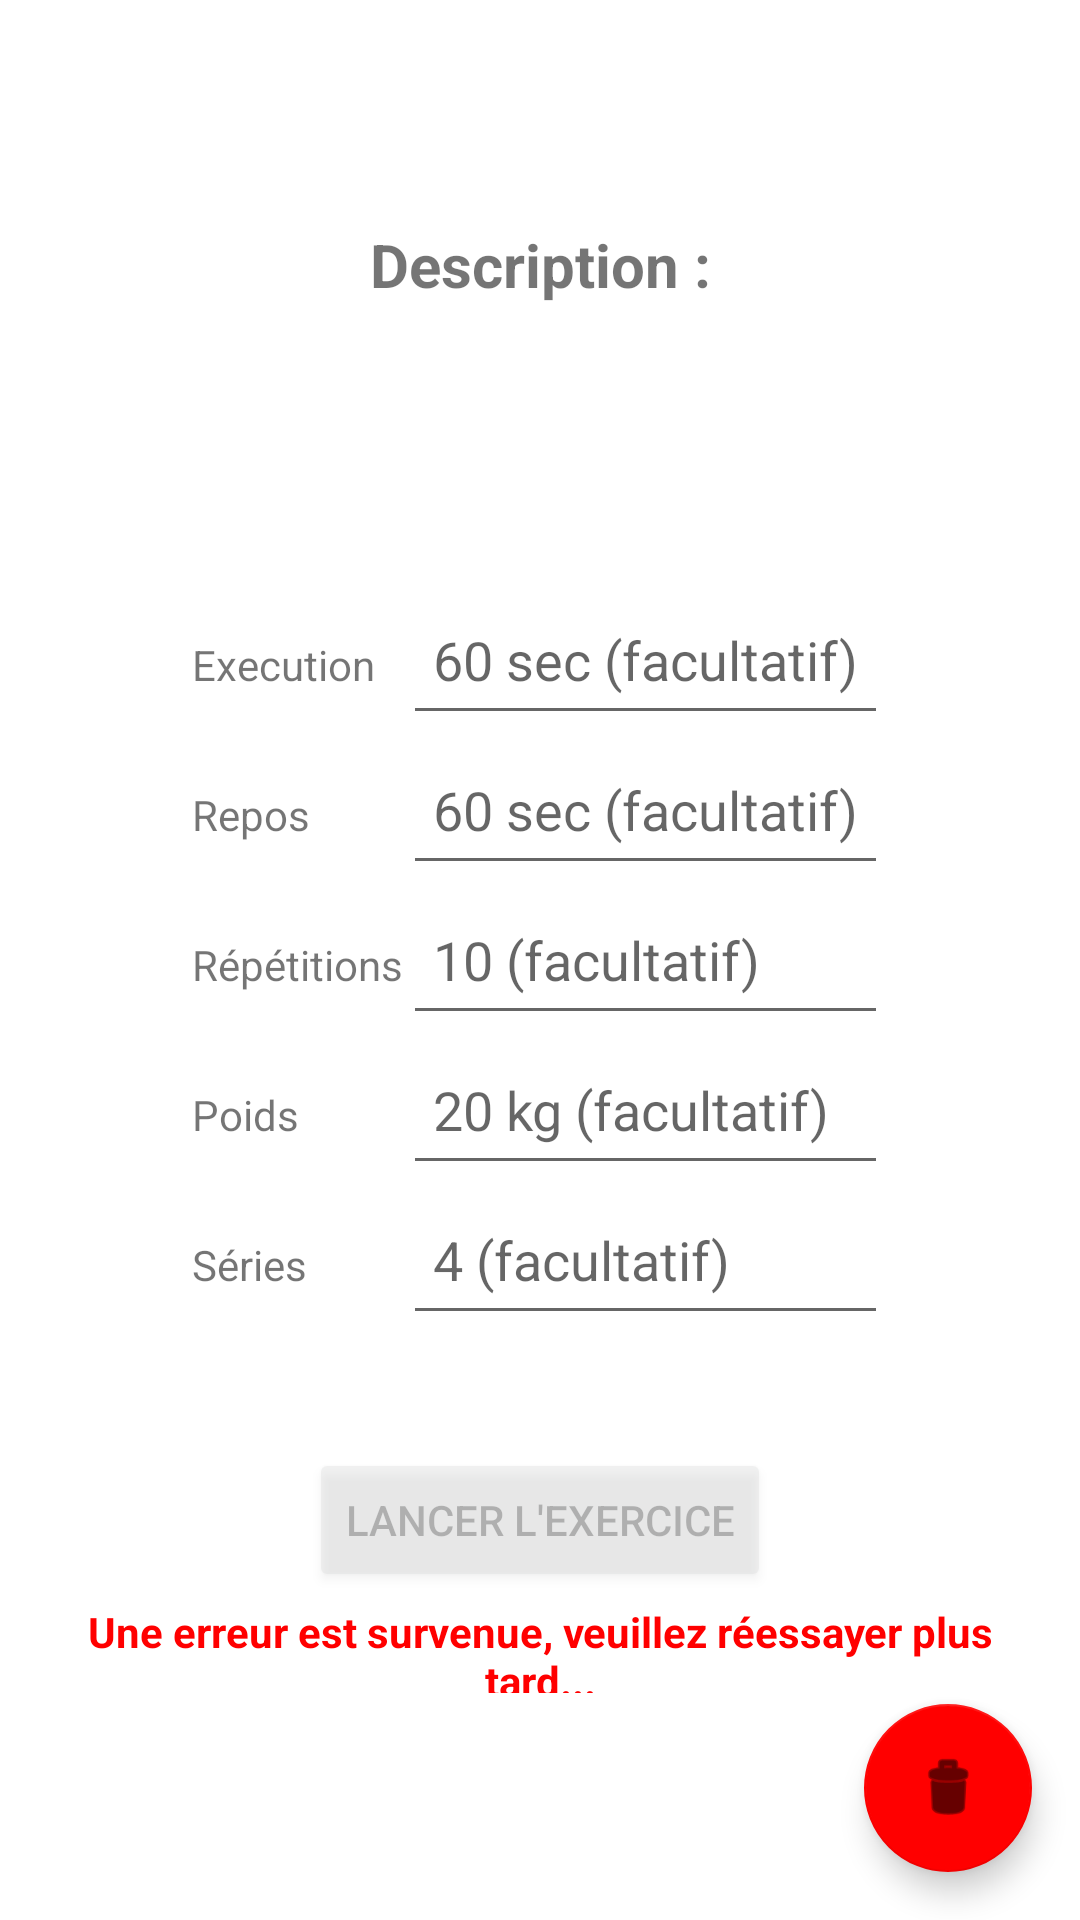

Screen size 1080 x 1920. Icon name, then its box in pixels as (left=x1, top=y1, right=x2, bottom=y2):
delete: (left=864, top=1704, right=1032, bottom=1872)
